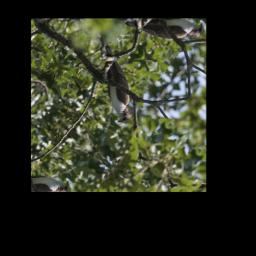Cuckoo: (63, 31, 161, 128)
